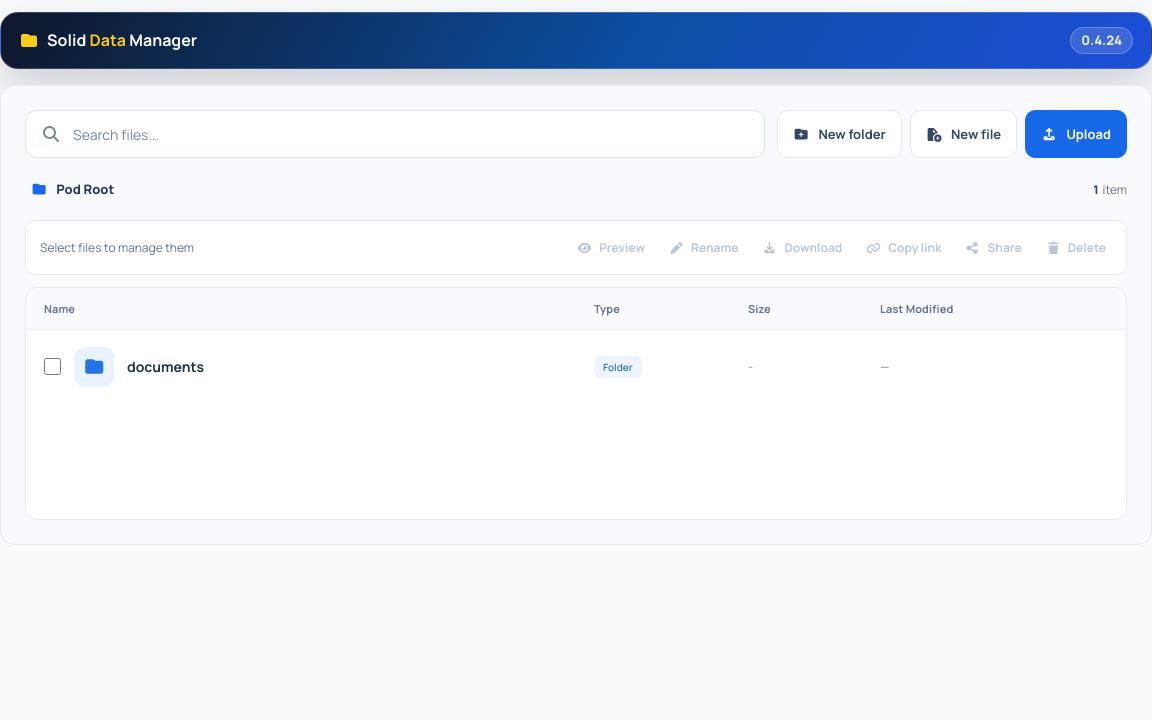
it: keeps user statistics subfolders navigable without folder HEAD requests
What coordinates should you click on to do the following:
click the button "documents"
I would click on:
 (166, 367)
Its box is [127,355,204,378].
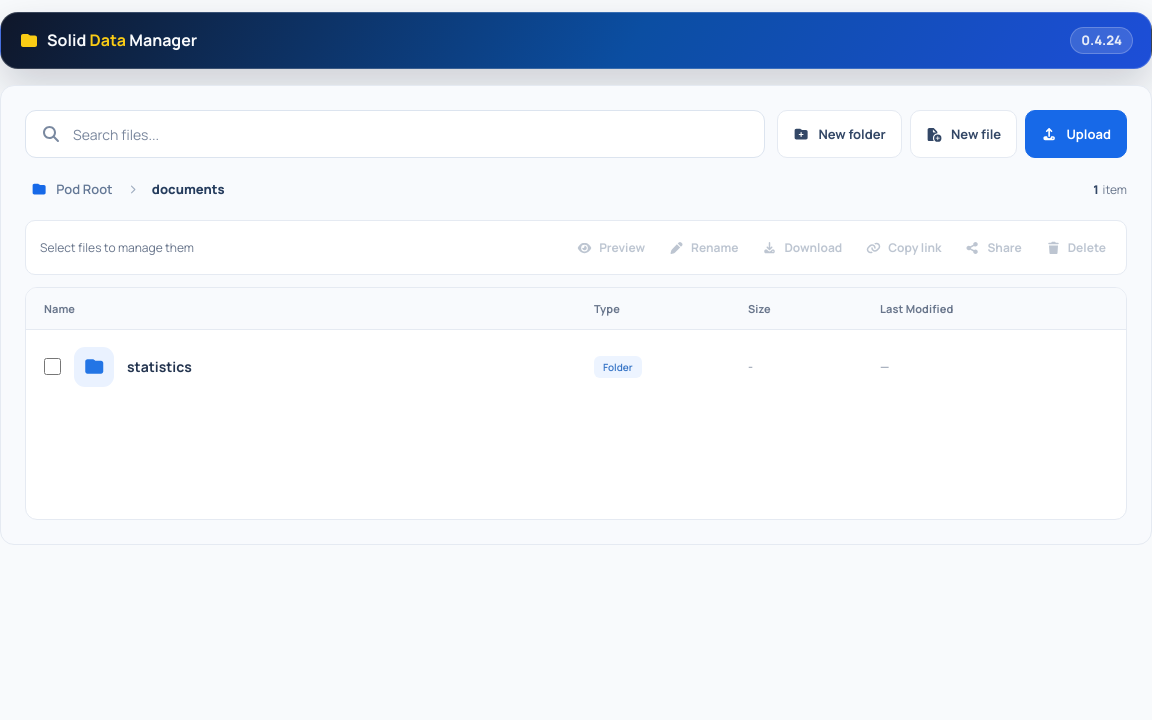
What coordinates should you click on to do the following:
click the button "statistics"
I would click on:
 (159, 367)
Its box is [127,355,192,378].
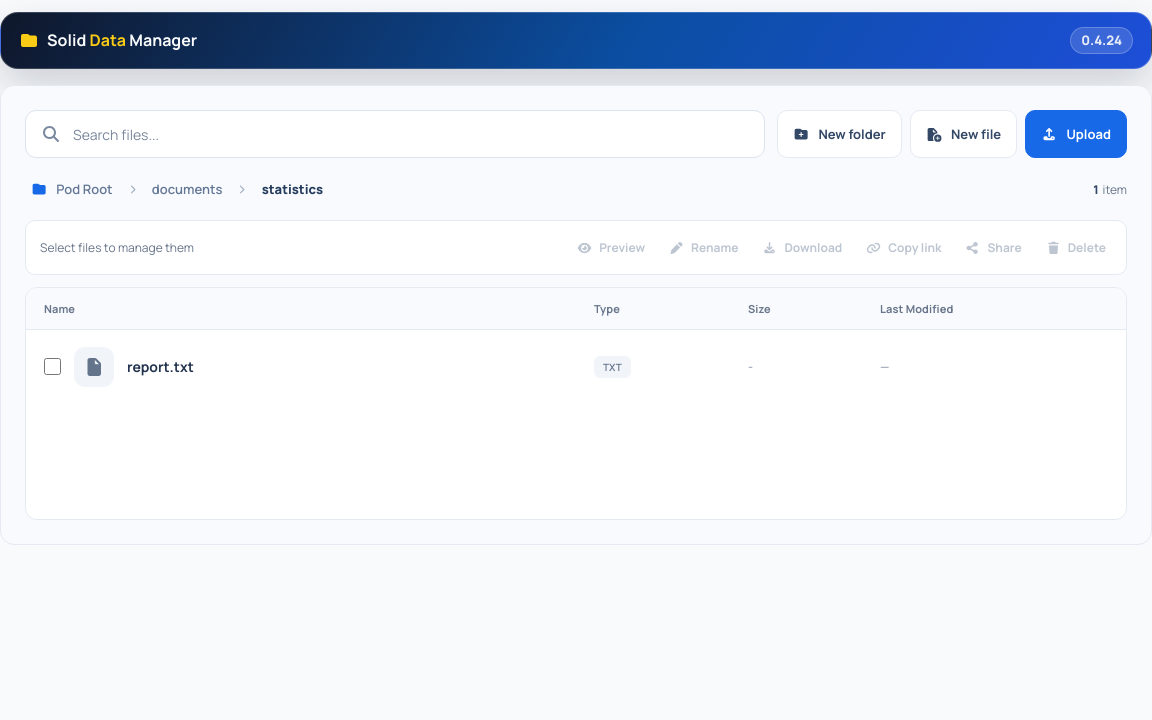
Now the text "report.txt" is shown, box [127,357,194,376]
